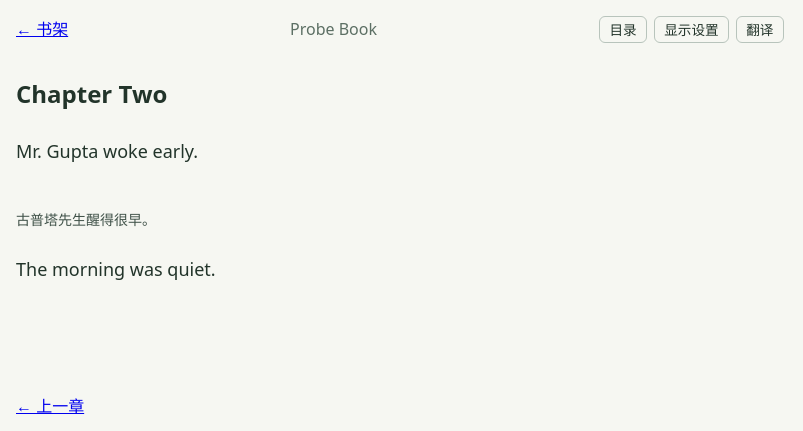
ReadingPage's untranslated-chapter semantics (ticket 03) › keeps the placeholder line for an individual hole and the toggle usable
Expected: the text with class "translation-line" reads "古普塔先生醒得很早。", [16,210,156,229]
// A hole is not a whole-chapter zero: the toggle stays operable.
Step 1. Click the button "显示设置" → (692, 29), box [654,16,729,43]
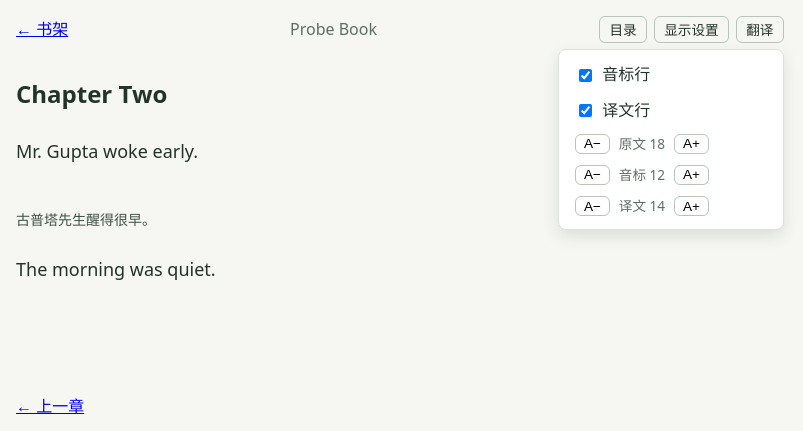
Result: the checkbox labelled "译文行" is enabled at [579,104,592,117]
